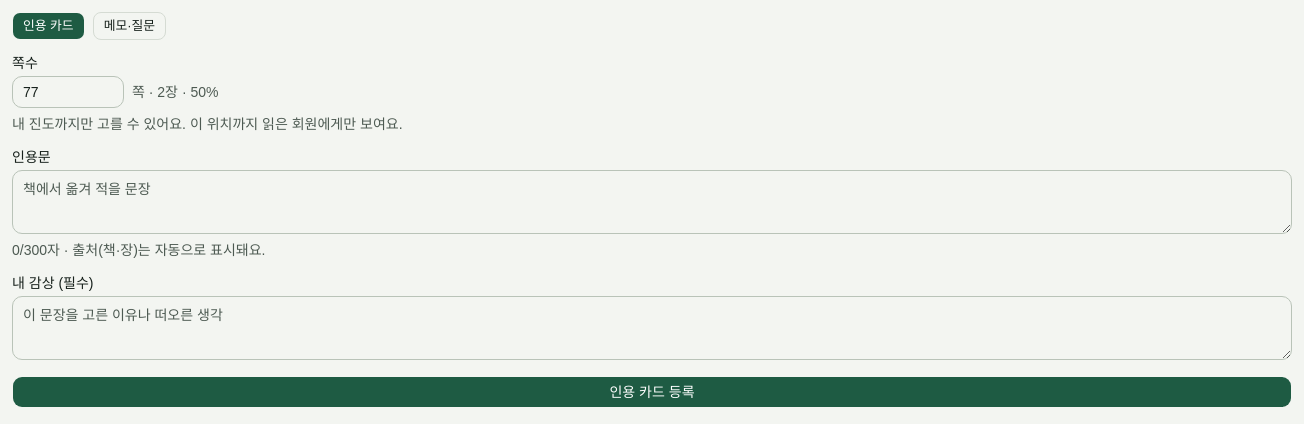
Scenario: 글 남기기 › 모든 장의 시작 쪽과 전체 쪽수가 있으면 % 대신 쪽수로 받는다
Replace the text in the number field labelled "쪽수" with "25". click: (68, 92)
box: [12, 76, 124, 108]
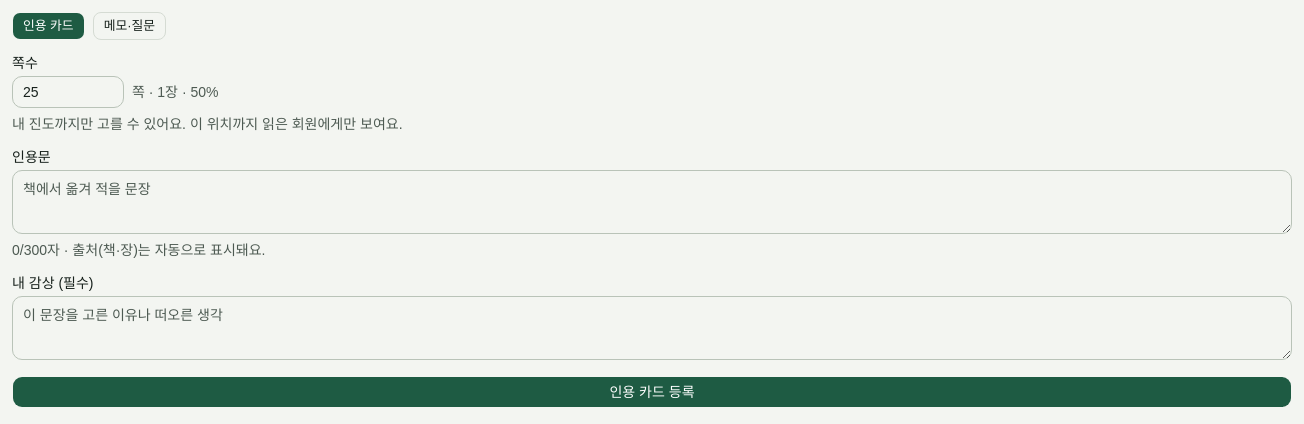
Now the text "쪽 · 1장 · 50%" is shown, box [132, 82, 218, 102]
Note: 진도보다 뒤 쪽은 고를 수 없다.
Replace the text in the number field labelled "쪽수" with "120". click: (68, 92)
box: [12, 76, 124, 108]
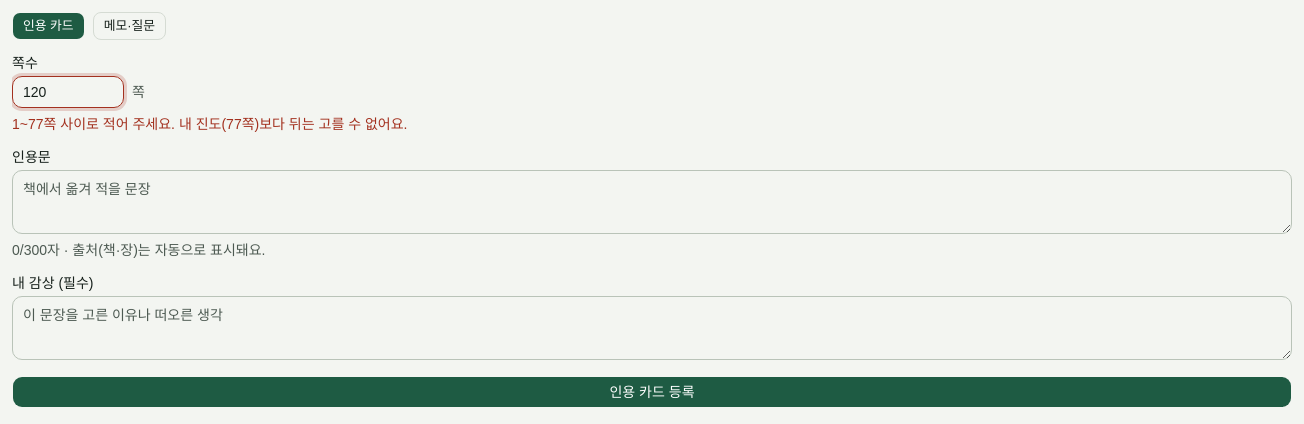
Now the text "1~77쪽 사이로 적어 주세요. 내 진도(77쪽)보다 뒤는 고를 수 없어요." is shown, box [12, 116, 408, 132]
